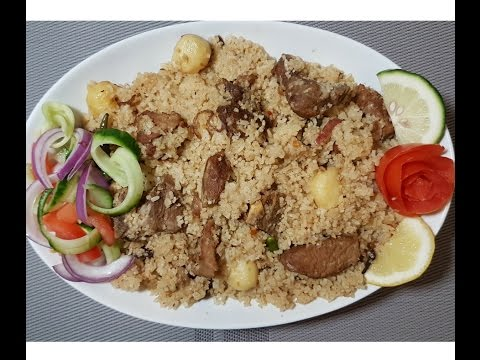tehari: (35, 29, 446, 314)
